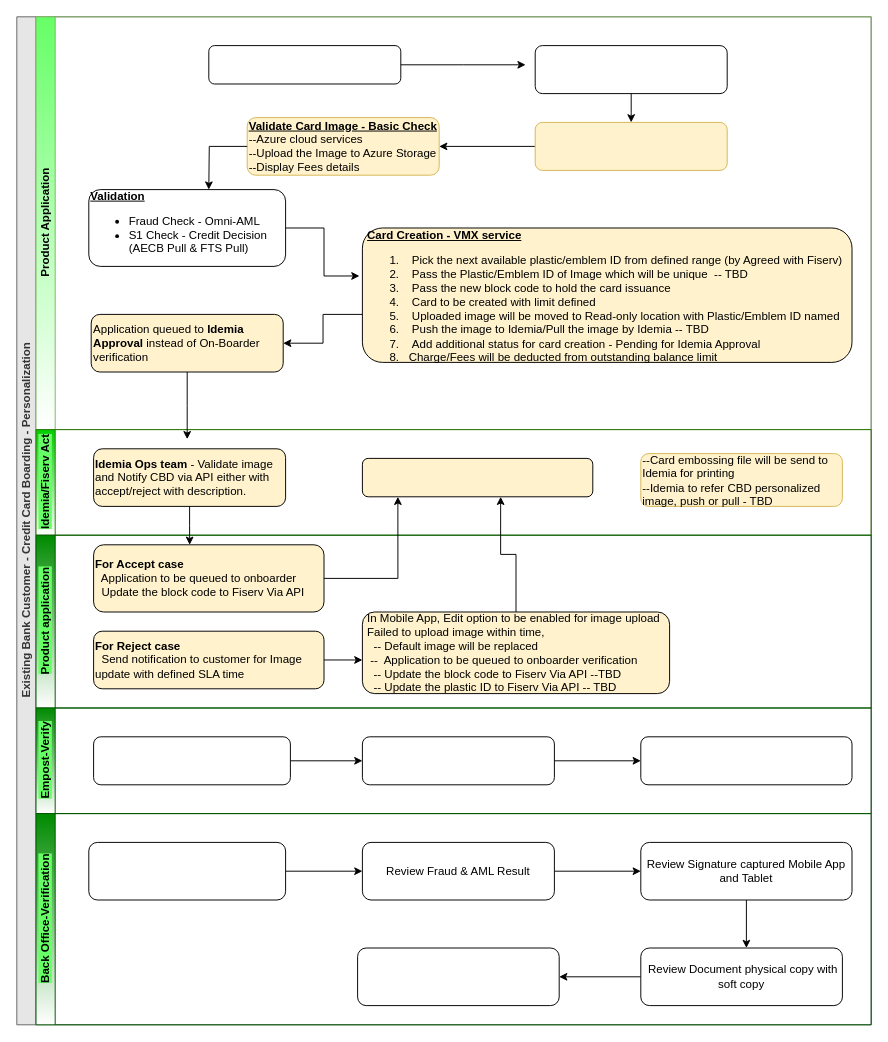
This 888x1042 diagram has some shape labels left out. The centre of each missing label's shape, as x and y in pixels:
"Approve and Submit to COC" belongs at pixel 746 760.
"Approved - Limit lifted - Fully onboarded" belongs at pixel 458 976.
"Choose Product - Credit Card" belongs at pixel 304 64.
"Choose the Logo/Plastic (World Mastercard,Visa Infinite,Super saver,...)" belongs at pixel 630 69.
"Document capture ( Addendum & Security Cheque)" belongs at pixel 457 760.
"EIDA verification with customer EID and Biometric" belongs at pixel 191 760.
"Fiserv will release the hold of Card issuance" belongs at pixel 477 477.
"Review Application and Product Information" belongs at pixel 187 870.
"Select Card Design -- From customer Device Gallery" belongs at pixel 630 145.
